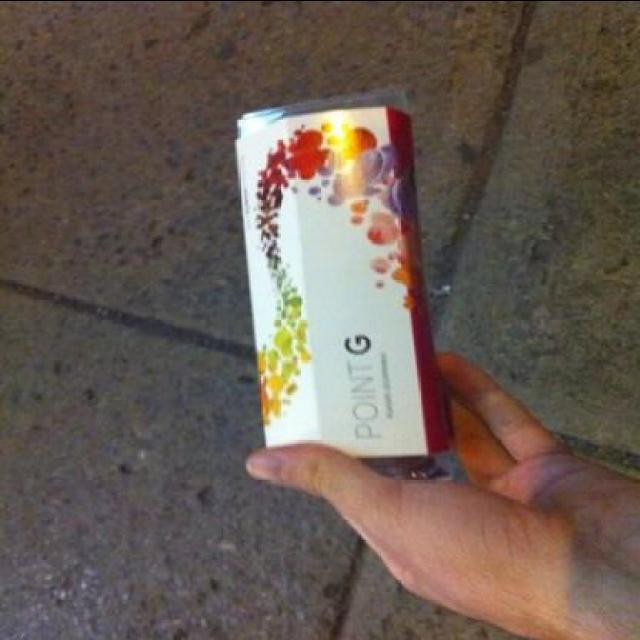Macaron: (233, 102, 425, 460)
